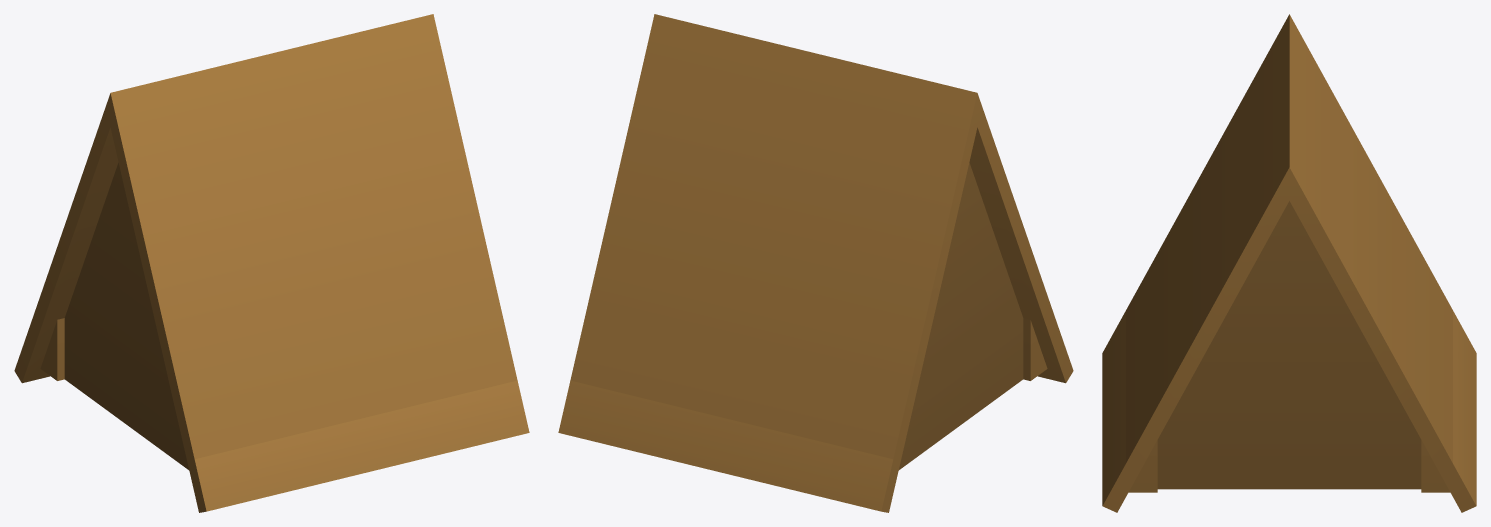
The model's file is town_roof-high-gable.glb.
3 views of the same model, side by side, from view 1: azimuth 30°, elevation 25°; view 2: azimuth 150°, elevation 25°; view 3: azimuth 270°, elevation 25° (orthographic). The views are drawn at different scales.
Parts seen in each view (by area): view 1: roof-high-gable; view 2: roof-high-gable; view 3: roof-high-gable.
Boxes of the visible parts, left/top/right/bottom form: roof-high-gable: left=14, top=14, right=529, bottom=512; roof-high-gable: left=558, top=14, right=1073, bottom=512; roof-high-gable: left=1102, top=14, right=1476, bottom=512.
Bounding box in the file's own units: 1.1 × 1.16 × 1.13.
Materials: 1 (1 with a texture image).
